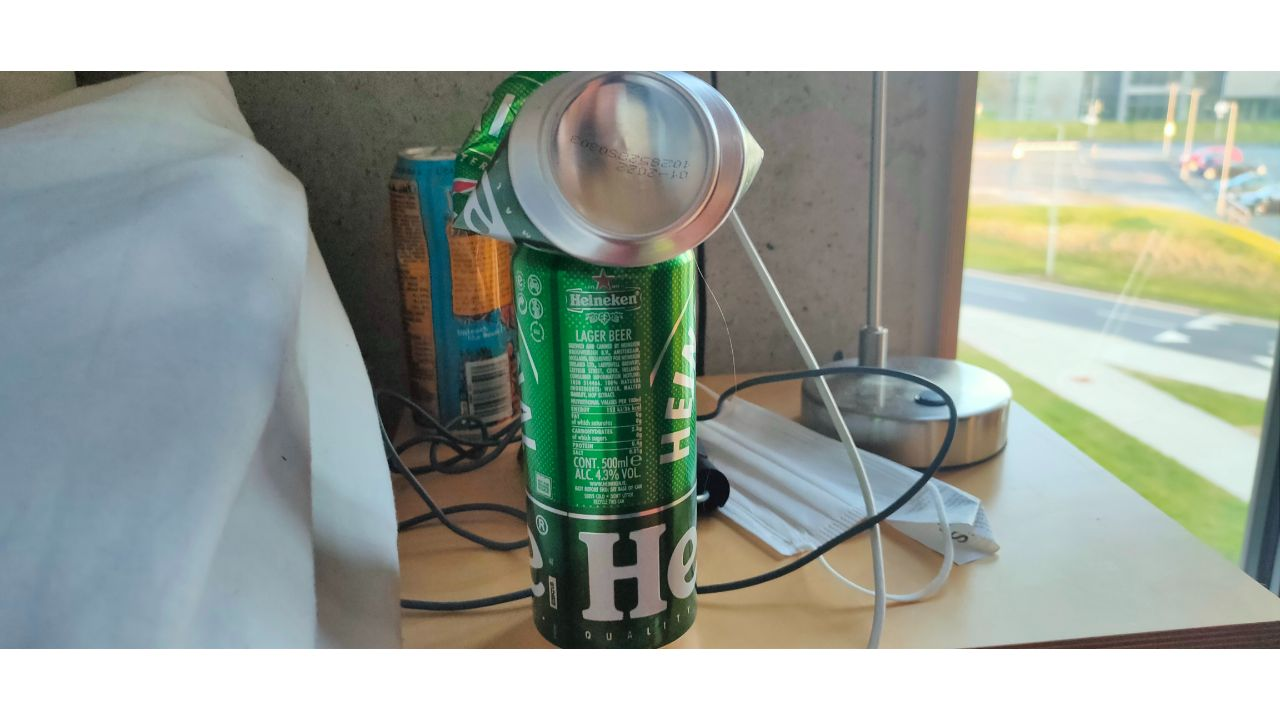Can: (511, 242, 698, 655), (448, 74, 768, 270), (384, 144, 523, 437)
